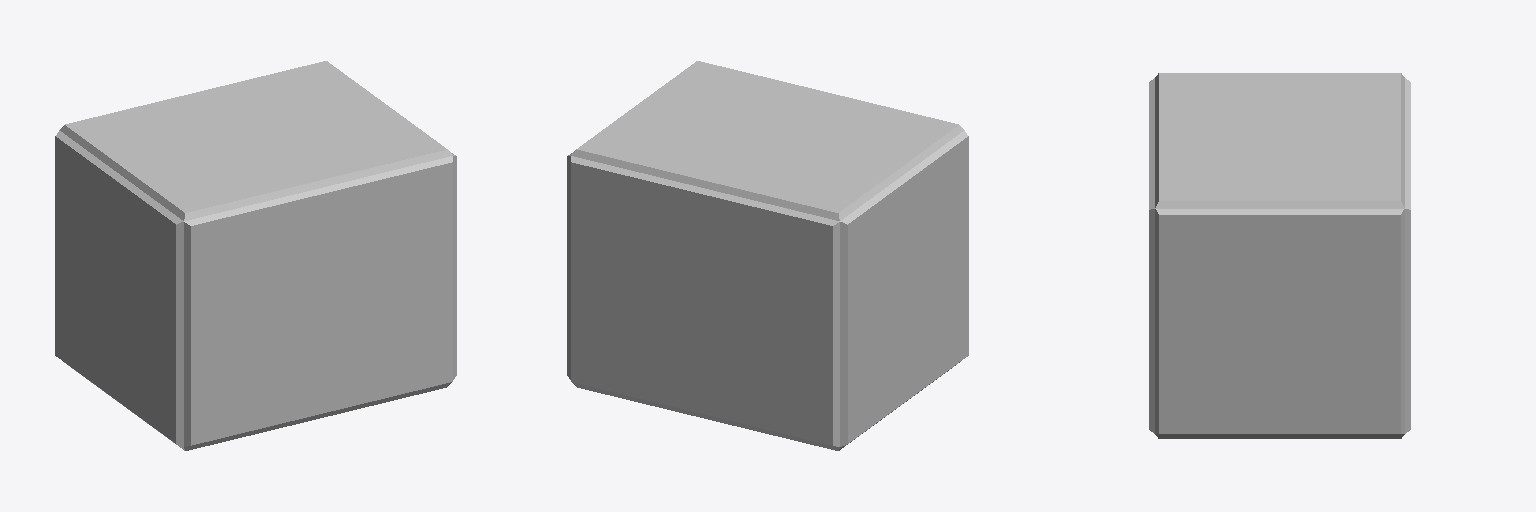
Rendered from Scifi_Crate.obj.
3 renders of one model, left to right at view 1: azimuth 30°, elevation 25°; view 2: azimuth 150°, elevation 25°; view 3: azimuth 270°, elevation 25°, orthographic.
Visible parts, largest first — view 1: Cube.001_Mesh.050; view 2: Cube.001_Mesh.050; view 3: Cube.001_Mesh.050.
Part boxes in pixels (left/top/right/bottom): Cube.001_Mesh.050: left=55, top=61, right=456, bottom=450; Cube.001_Mesh.050: left=567, top=61, right=968, bottom=450; Cube.001_Mesh.050: left=1149, top=73, right=1410, bottom=438.
Bounding box in the file's own units: 1.57 × 1.27 × 1.27.